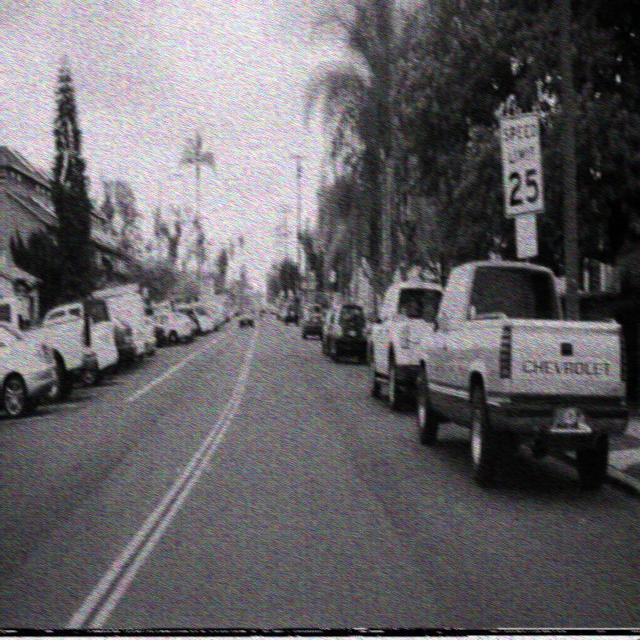speedLimit25: (498, 110, 544, 218)
